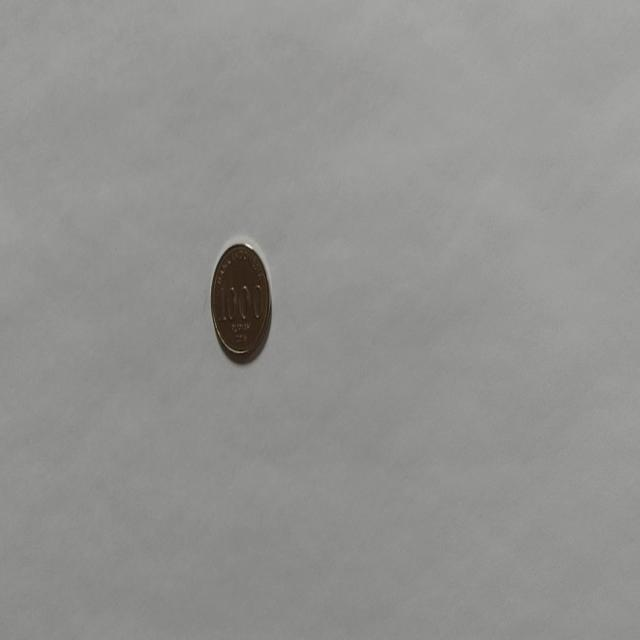seribu rupiah koin: (209, 239, 272, 364)
